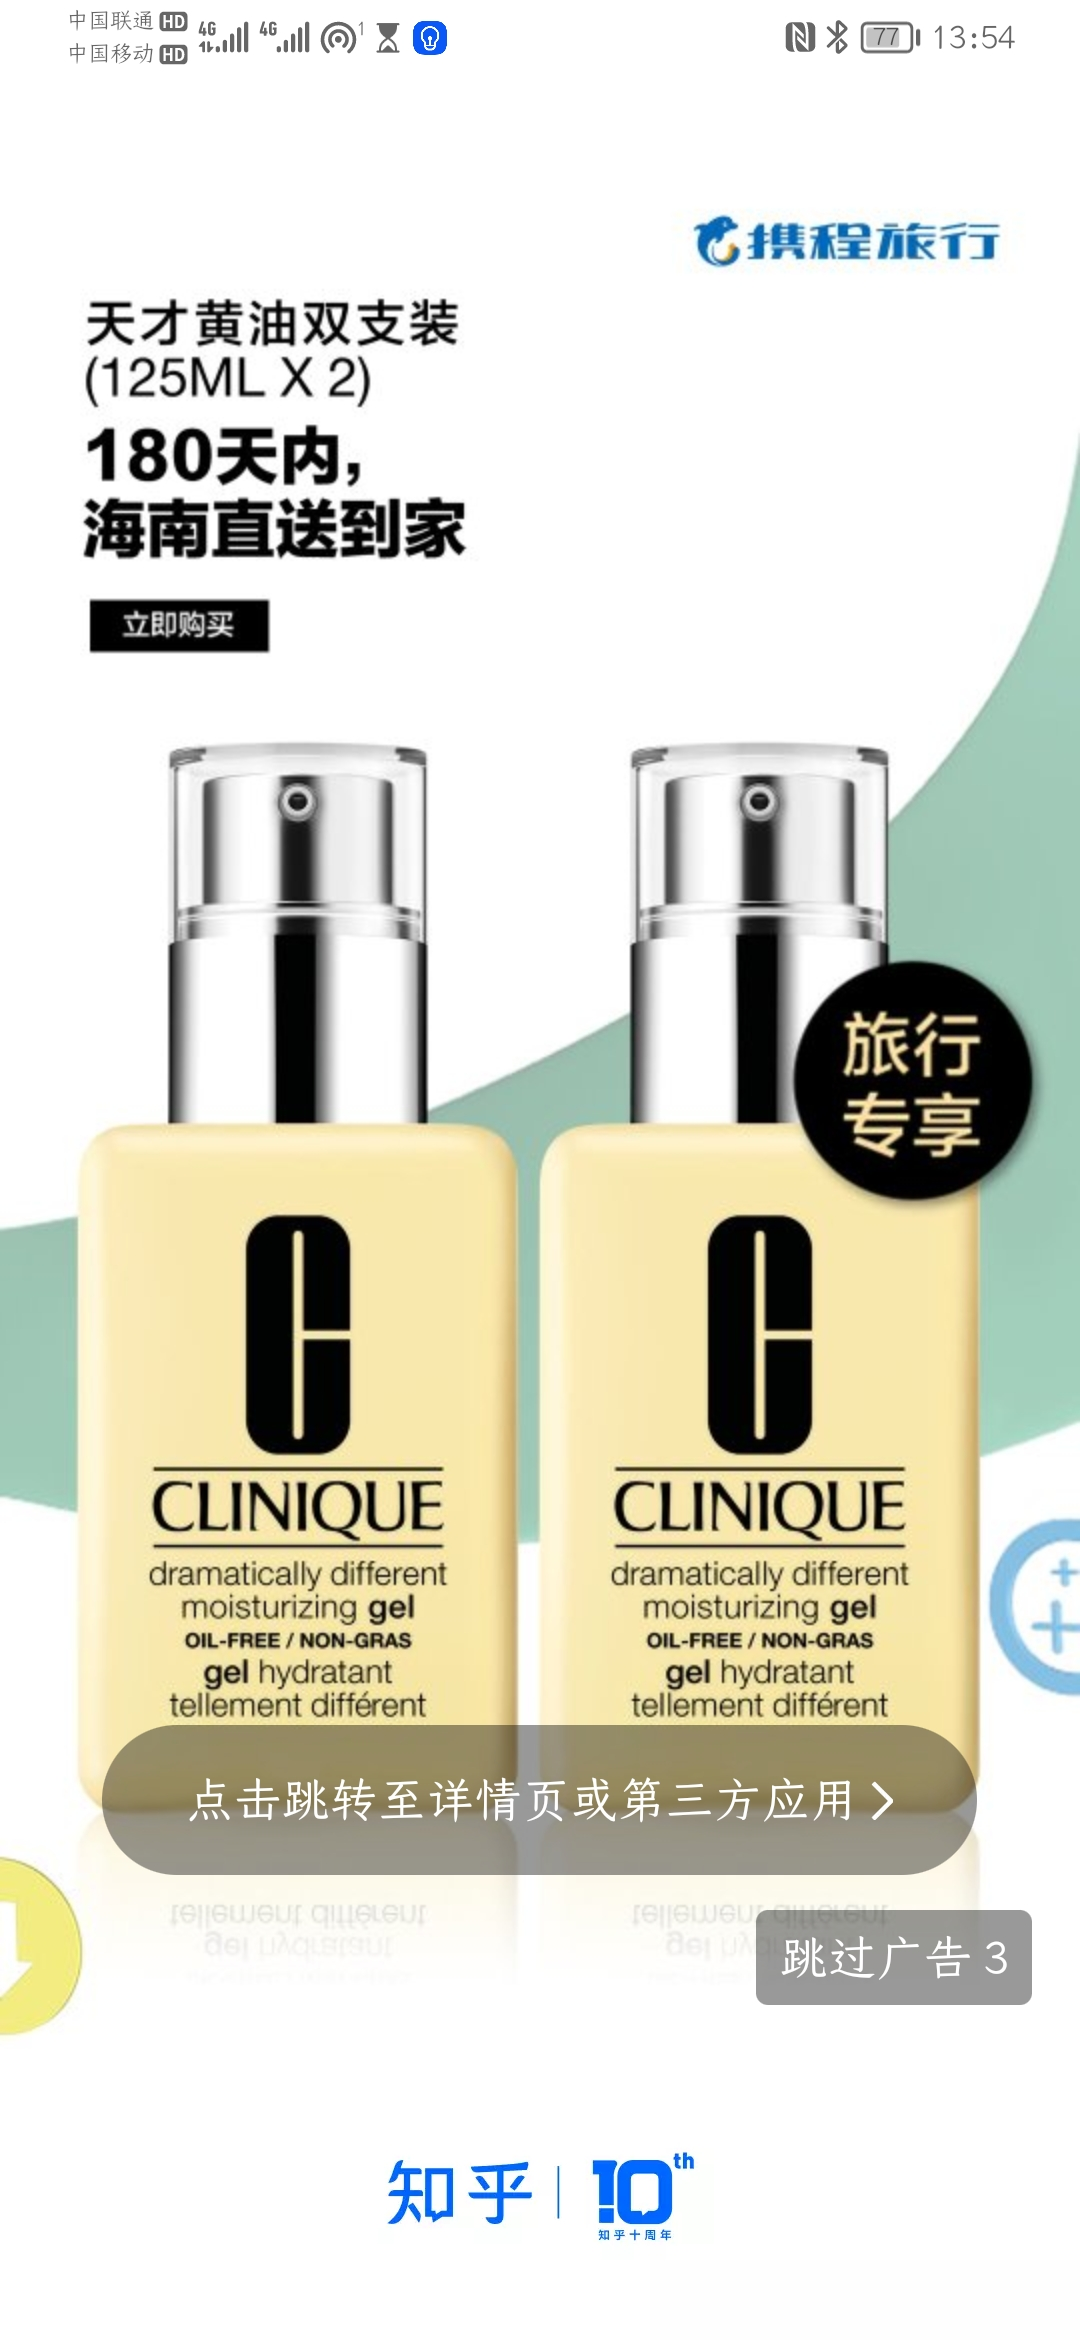skip: (755, 1915, 1020, 1995)
